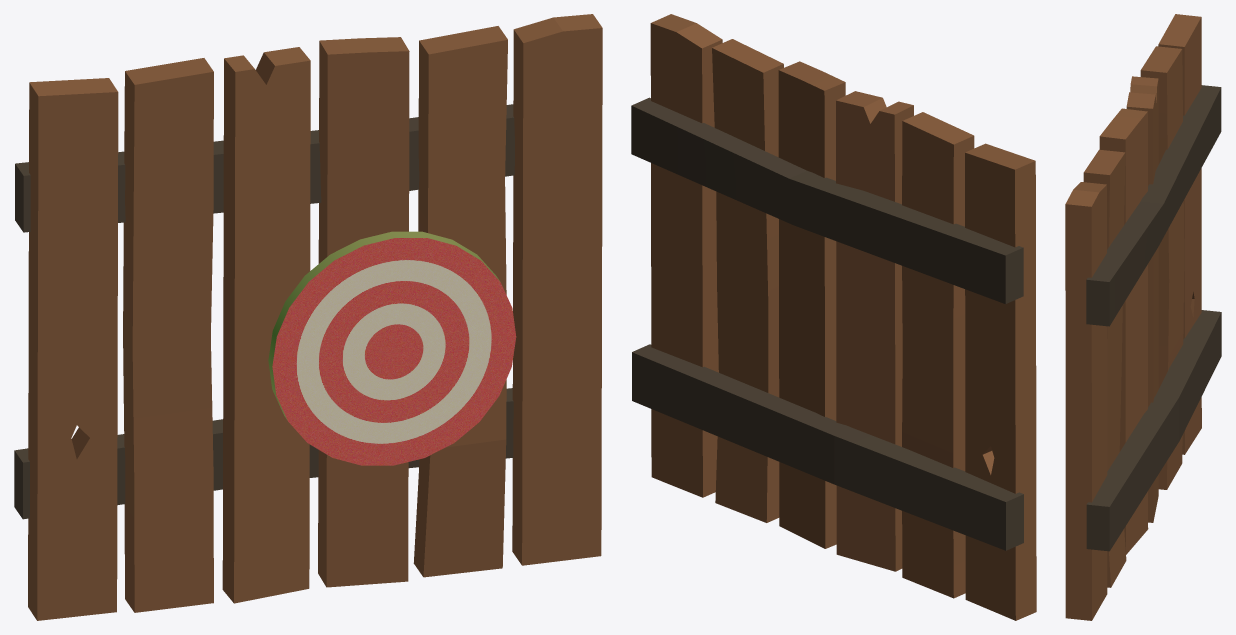
The model's file is Fence_Breakable_A (3).fbx.
The picture shows the model from 3 angles, left to right: view 1: azimuth 30°, elevation 25°; view 2: azimuth 150°, elevation 25°; view 3: azimuth 270°, elevation 25°; orthographic projection. The views are drawn at different scales.
Parts seen in each view (by area): view 1: Fence_Breakable_A (3), Target; view 2: Fence_Breakable_A (3); view 3: Fence_Breakable_A (3).
Boxes of the visible parts, x1=… form: Fence_Breakable_A (3): x1=14, y1=14, x2=602, y2=620; Target: x1=268, y1=231, x2=516, y2=465; Fence_Breakable_A (3): x1=631, y1=14, x2=1036, y2=620; Fence_Breakable_A (3): x1=1065, y1=14, x2=1221, y2=620.
Bounding box in the file's own units: 4.43 × 4.4 × 1.49.
